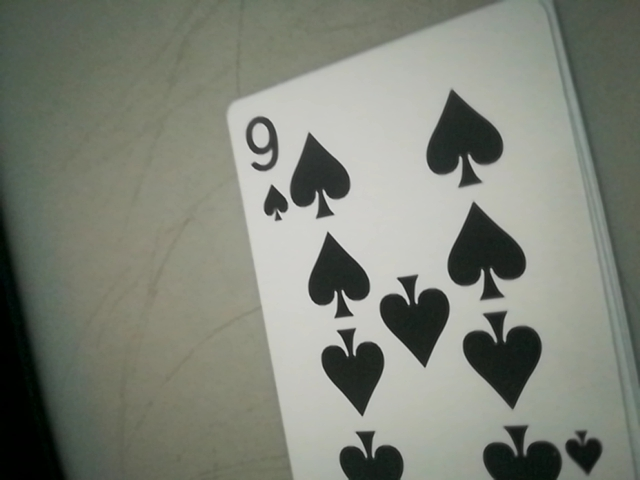ht 9: (233, 102, 297, 230)
